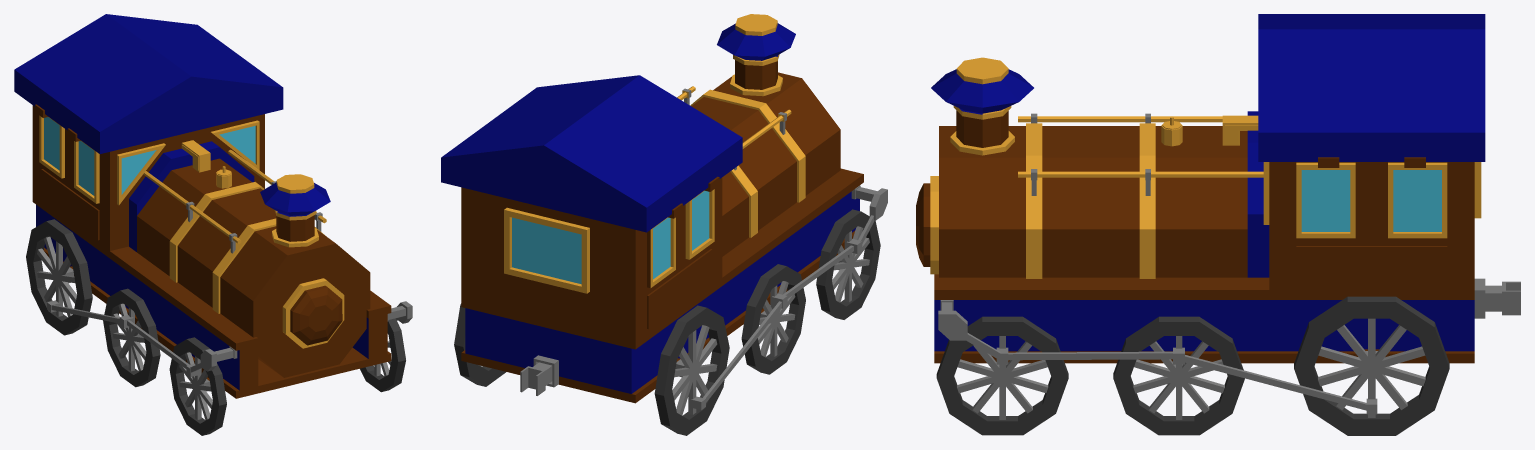
Rendered from TrainBlue.fbx.
3 views of the same model, side by side, from view 1: azimuth 30°, elevation 25°; view 2: azimuth 150°, elevation 25°; view 3: azimuth 270°, elevation 25° (orthographic). The views are drawn at different scales.
Parts seen in each view (by area): view 1: Plane.002; view 2: Plane.002; view 3: Plane.002.
Part boxes in pixels (x1=…): Plane.002: x1=14, y1=14, x2=412, y2=435; Plane.002: x1=441, y1=14, x2=887, y2=435; Plane.002: x1=916, y1=14, x2=1520, y2=435.
Bounding box in the file's own units: 145 × 180 × 285.
